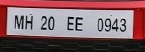0: (47, 15, 56, 31), (97, 17, 104, 33)
2: (40, 15, 48, 31)
3: (118, 17, 127, 33)
4: (111, 17, 120, 33)
9: (104, 17, 112, 33)
E: (75, 16, 84, 32), (67, 16, 75, 31)
H: (25, 14, 34, 31)
M: (13, 13, 25, 30)
